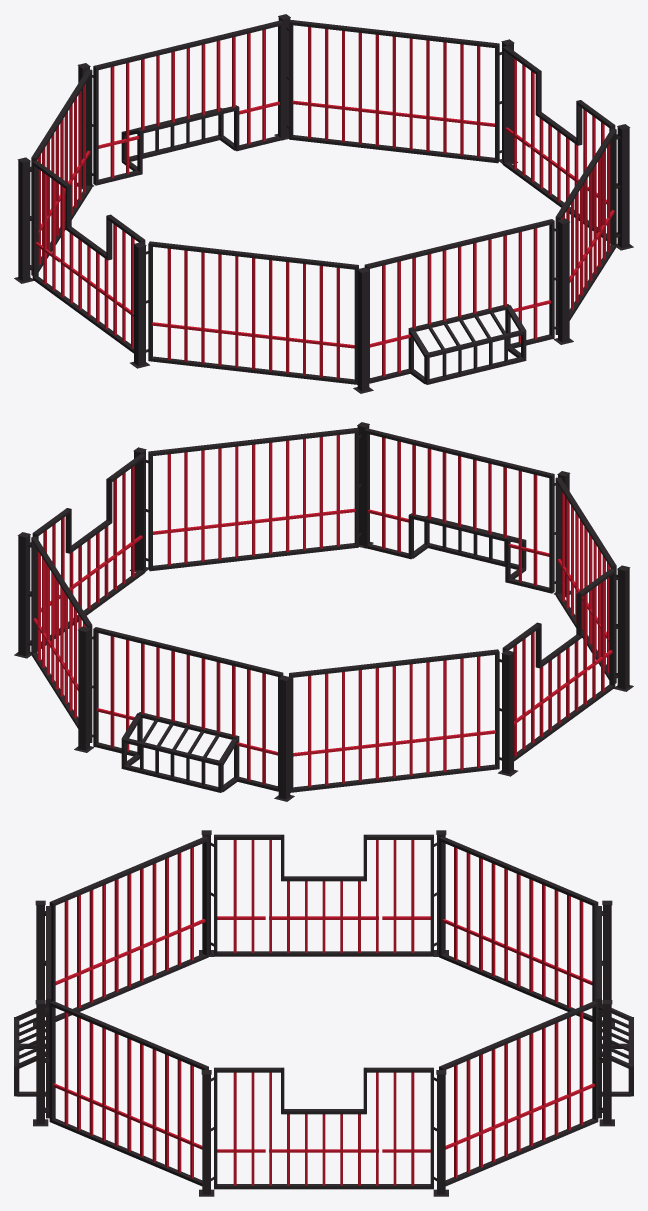
Rendered from panna-octa.glb.
The picture shows the model from 3 angles, top to bottom: view 1: azimuth 30°, elevation 25°; view 2: azimuth 150°, elevation 25°; view 3: azimuth 270°, elevation 25°; orthographic projection.
Parts seen in each view (by area): view 1: Panel 6 wypelnienie, Panel 2 wypelnienie, Panel 5 wypelnienie, Panel 3 wypelnienie, Panel 7 wypelnienie, Panel 8 wypelnienie, Panel 7 bramka, Panel 1 wypelnienie, Panel 4 wypelnienie, Panel 2 rama, Panel 6 rama, Panel 3 rama (+13 smaller); view 2: Panel 4 wypelnienie, Panel 8 wypelnienie, Panel 5 wypelnienie, Panel 7 wypelnienie, Panel 3 wypelnienie, Panel 2 wypelnienie, Panel 3 bramka, Panel 1 wypelnienie, Panel 6 wypelnienie, Panel 8 rama, Panel 4 rama, Panel 7 rama (+13 smaller); view 3: Panel 2 wypelnienie, Panel 8 wypelnienie, Panel 4 wypelnienie, Panel 6 wypelnienie, Panel 1 wypelnienie, Panel 5 wypelnienie, Panel 1 rama, Panel 5 rama, Panel 4 rama, Panel 6 rama, Panel 2 rama, Panel 8 rama (+10 smaller).
Part boxes in pixels (x1,y1,x2,y2): Panel 6 wypelnienie: (152, 248, 354, 379); Panel 2 wypelnienie: (292, 27, 494, 157); Panel 5 wypelnienie: (35, 173, 134, 348); Panel 3 wypelnienie: (98, 29, 279, 177); Panel 7 wypelnienie: (370, 228, 551, 376); Panel 8 wypelnienie: (562, 142, 614, 309); Panel 7 bramka: (408, 304, 526, 384); Panel 1 wypelnienie: (505, 58, 606, 233); Panel 4 wypelnienie: (37, 83, 90, 264); Panel 2 rama: (286, 19, 502, 163); Panel 6 rama: (146, 241, 358, 384); Panel 3 rama: (92, 20, 283, 185); Panel 4 wypelnienie: (293, 656, 495, 787); Panel 8 wypelnienie: (153, 435, 355, 565); Panel 5 wypelnienie: (513, 581, 612, 756); Panel 7 wypelnienie: (368, 437, 549, 585); Panel 3 wypelnienie: (96, 636, 277, 784); Panel 2 wypelnienie: (33, 550, 85, 717); Panel 3 bramka: (121, 712, 239, 792); Panel 1 wypelnienie: (41, 466, 142, 641); Panel 6 wypelnienie: (557, 491, 610, 672); Panel 8 rama: (145, 427, 361, 571); Panel 4 rama: (289, 649, 501, 792); Panel 7 rama: (364, 428, 555, 593); Panel 2 wypelnienie: (445, 1012, 594, 1178); Panel 8 wypelnienie: (53, 1012, 202, 1178); Panel 4 wypelnienie: (442, 847, 592, 1008); Panel 6 wypelnienie: (55, 847, 205, 1008); Panel 1 wypelnienie: (217, 1072, 430, 1185); Panel 5 wypelnienie: (217, 840, 430, 952); Panel 1 rama: (211, 1067, 436, 1189); Panel 5 rama: (210, 834, 437, 956); Panel 4 rama: (439, 836, 602, 1021); Panel 6 rama: (45, 836, 208, 1021); Panel 2 rama: (439, 1001, 602, 1186); Panel 8 rama: (45, 1001, 208, 1186).
Bounding box in the file's own units: 5.3 × 1.22 × 5.64.
